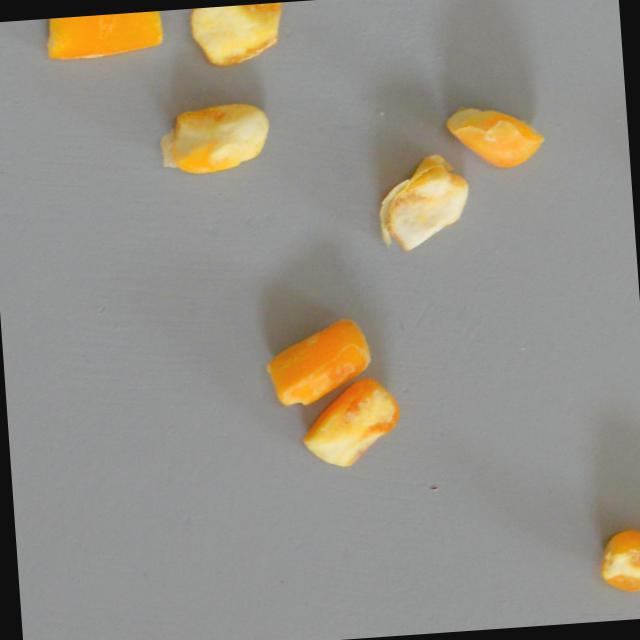estandar: (597, 526, 640, 600)
pelicula: (260, 313, 373, 408), (297, 374, 403, 470), (372, 149, 471, 251), (155, 98, 273, 179), (443, 94, 547, 173), (187, 2, 288, 68), (42, 10, 164, 61)
